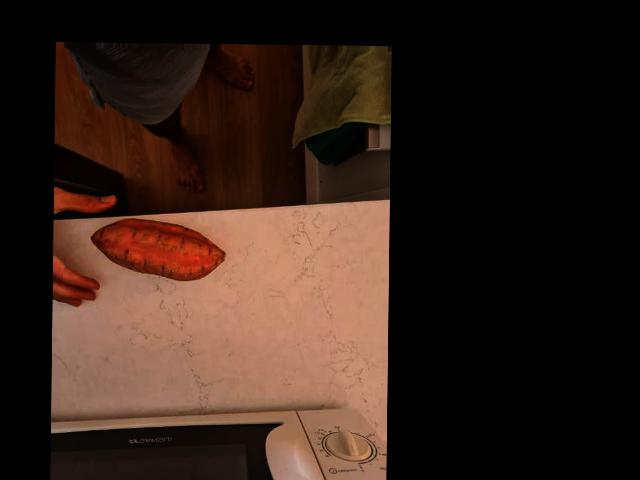sweet_potato: (93, 213, 226, 281)
